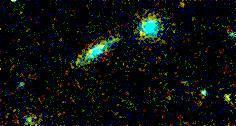star: (167, 0, 197, 20)
